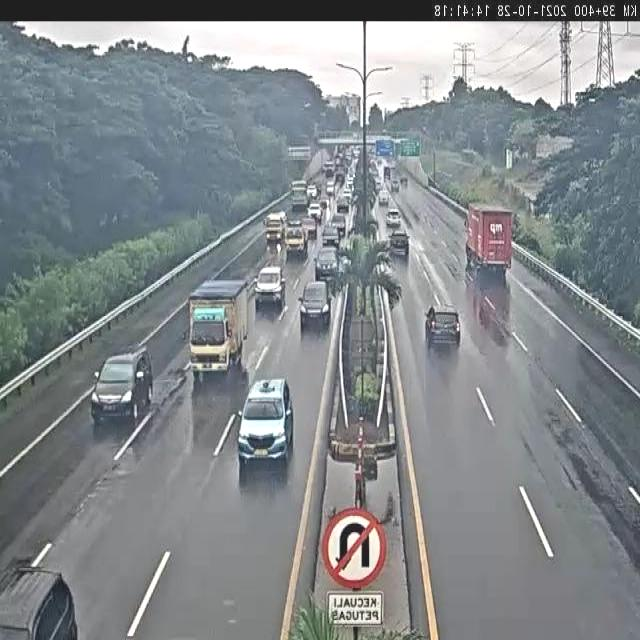Car: (0, 565, 81, 640), (89, 347, 154, 431), (298, 279, 333, 330), (424, 303, 462, 348), (254, 264, 288, 310), (313, 247, 340, 281), (387, 228, 412, 255), (330, 214, 348, 234), (301, 218, 319, 238), (322, 225, 339, 245), (386, 208, 401, 228), (306, 202, 324, 218)
Truck: (188, 278, 250, 378), (463, 206, 513, 272), (284, 220, 308, 256), (263, 209, 288, 241), (291, 180, 309, 209)
Van: (236, 369, 296, 478), (378, 190, 390, 205)
